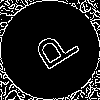P: (25, 25, 82, 78)
